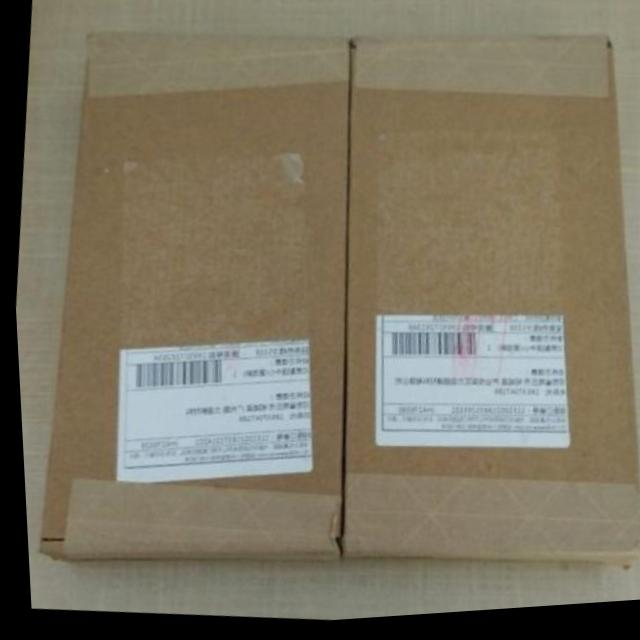box: (32, 31, 350, 563), (336, 41, 638, 578)
